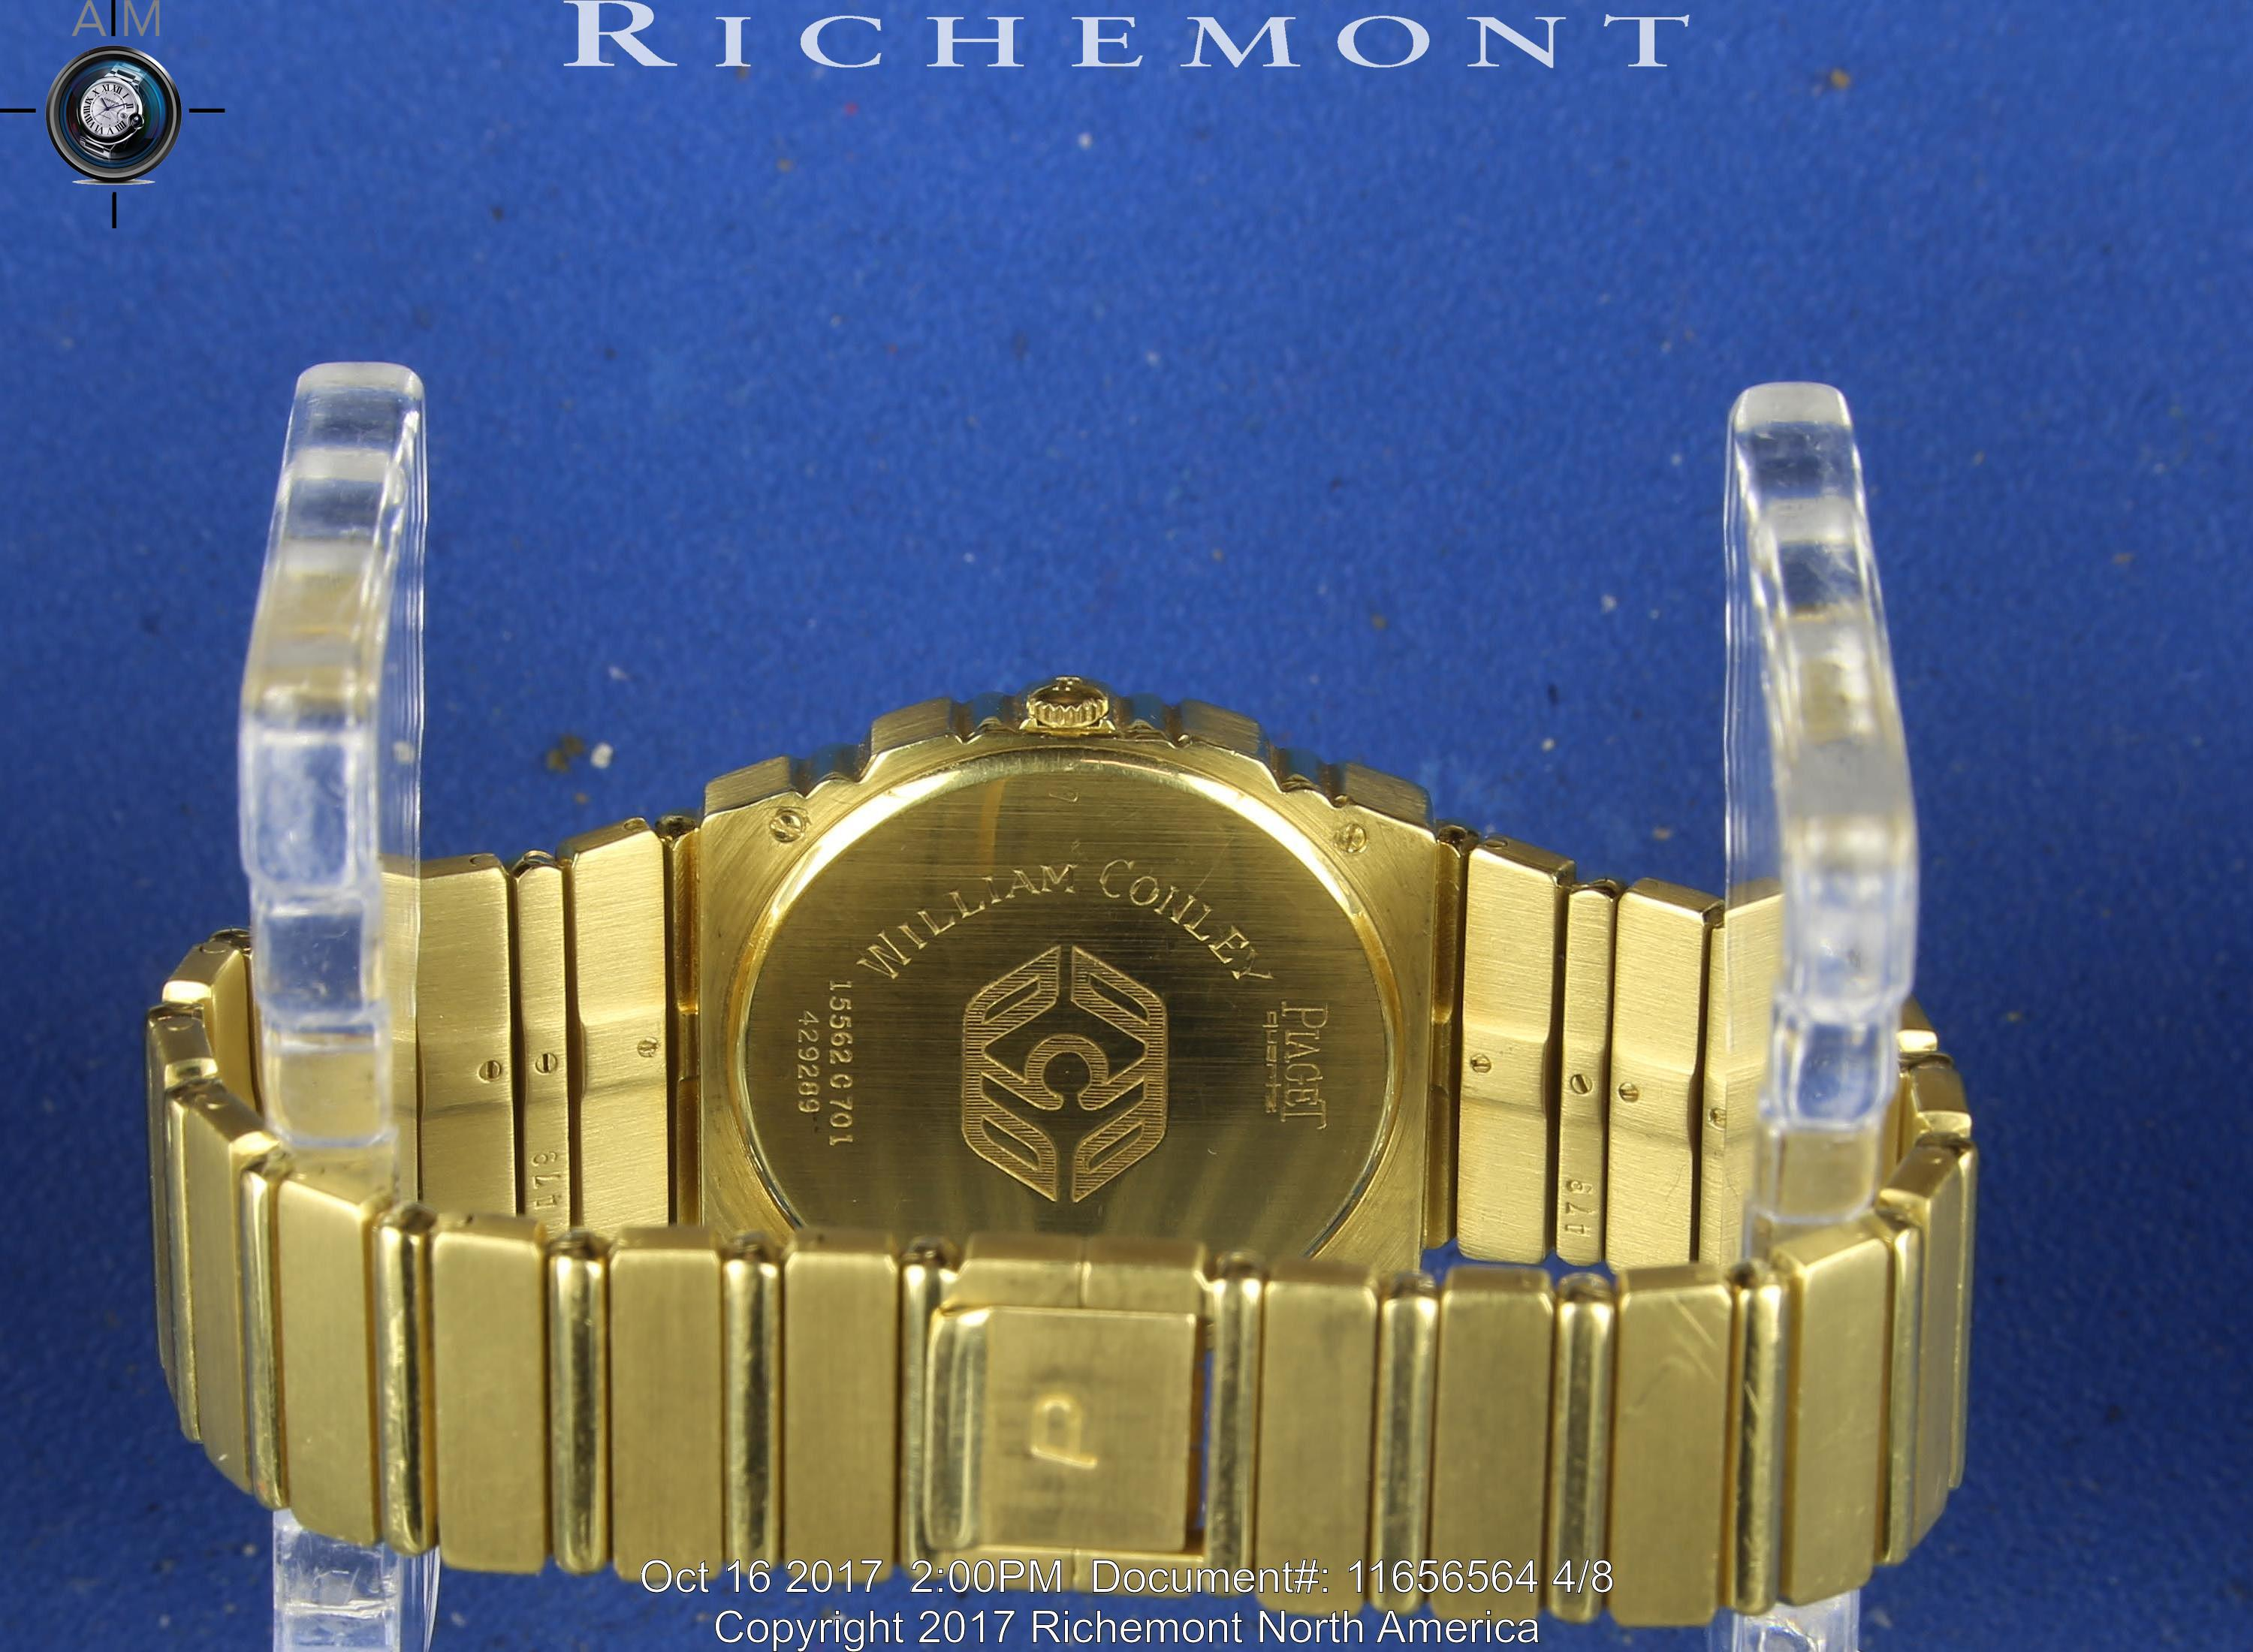Watch BackCase: (707, 673, 1441, 1245)
